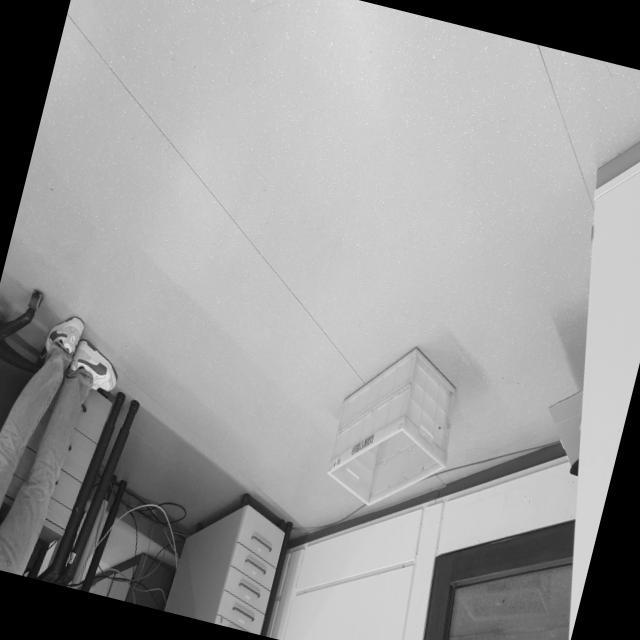box: (315, 322, 482, 530)
